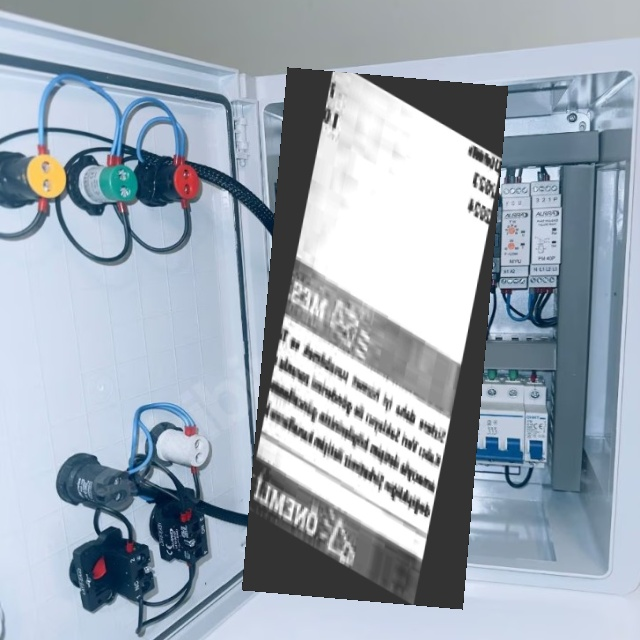electricity-bill: (241, 67, 507, 609)
